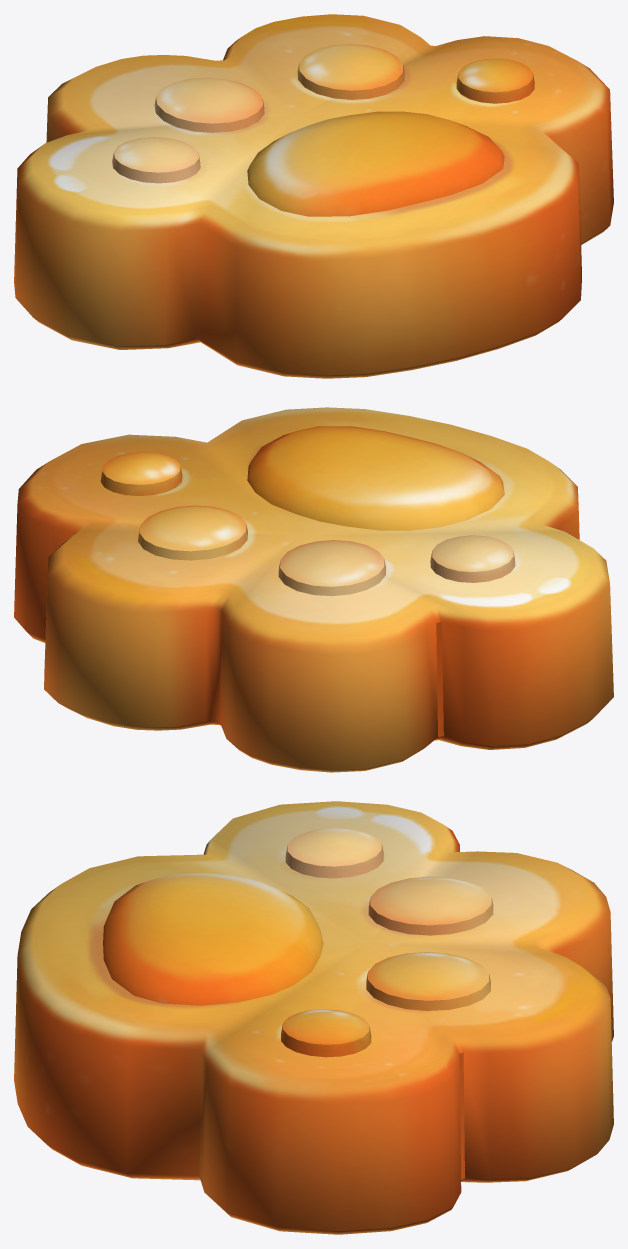
File: 新糖果工厂-道具-糖果04.FBX
The picture shows the model from 3 angles, top to bottom: view 1: azimuth 30°, elevation 25°; view 2: azimuth 150°, elevation 25°; view 3: azimuth 270°, elevation 25°; orthographic projection. The views are drawn at different scales.
Parts seen in each view (by area): view 1: 新糖果工厂-道具-糖果04; view 2: 新糖果工厂-道具-糖果04; view 3: 新糖果工厂-道具-糖果04.
Part boxes in pixels (x1,y1,x2,y2): 新糖果工厂-道具-糖果04: (14,14,613,378); 新糖果工厂-道具-糖果04: (14,407,613,772); 新糖果工厂-道具-糖果04: (14,801,613,1234).
Bounding box in the file's own units: 9.24 × 2.5 × 7.78.
